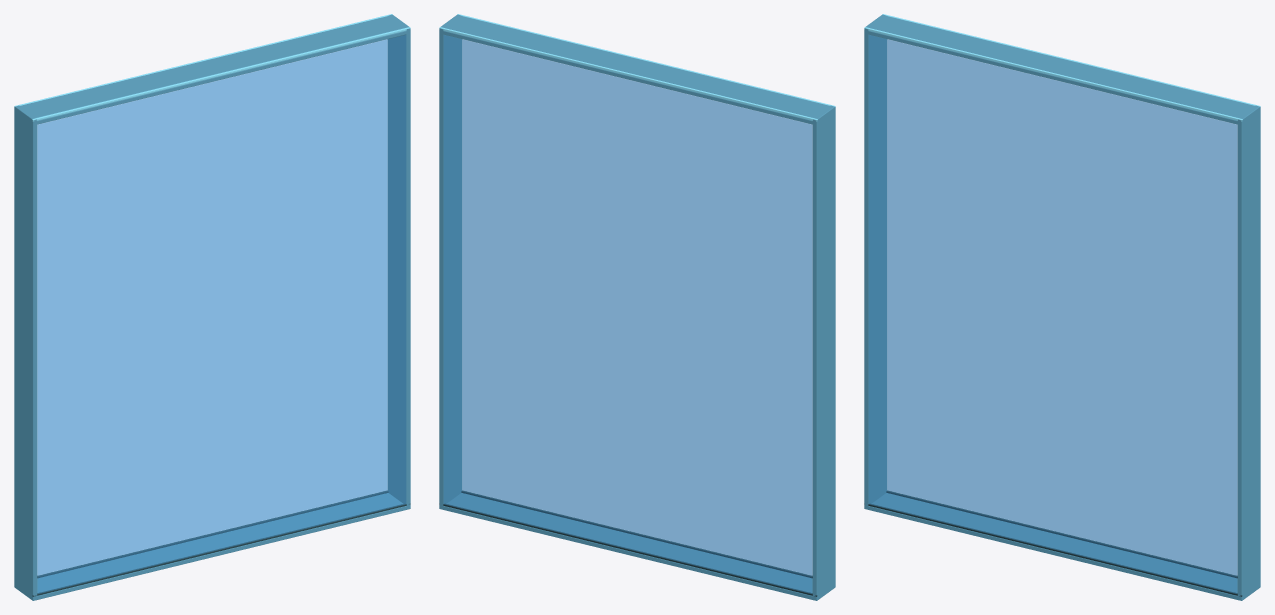
File: SM_VR_Wall_TransferWest.fbx
3 renders of one model, left to right at view 1: azimuth 30°, elevation 25°; view 2: azimuth 150°, elevation 25°; view 3: azimuth 330°, elevation 25°, orthographic.
Parts seen in each view (by area): view 1: SM_VR_Wall_TransferWest; view 2: SM_VR_Wall_TransferWest; view 3: SM_VR_Wall_TransferWest.
Boxes of the visible parts, x1,y1,x2,y2 form: SM_VR_Wall_TransferWest: (14,14,410,600); SM_VR_Wall_TransferWest: (439,14,835,600); SM_VR_Wall_TransferWest: (864,14,1260,600).
Size of the model in its own units: 230 by 20 by 280.
